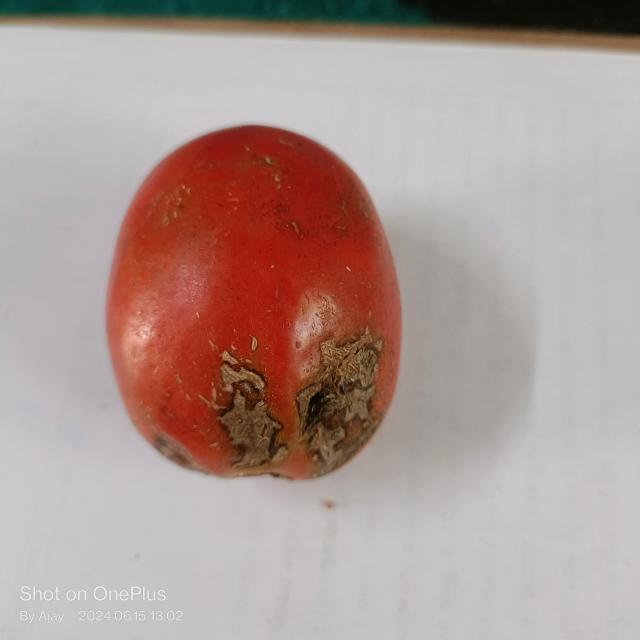Bacterial_Spot: (285, 331, 381, 459), (204, 348, 288, 468), (153, 429, 185, 454)
